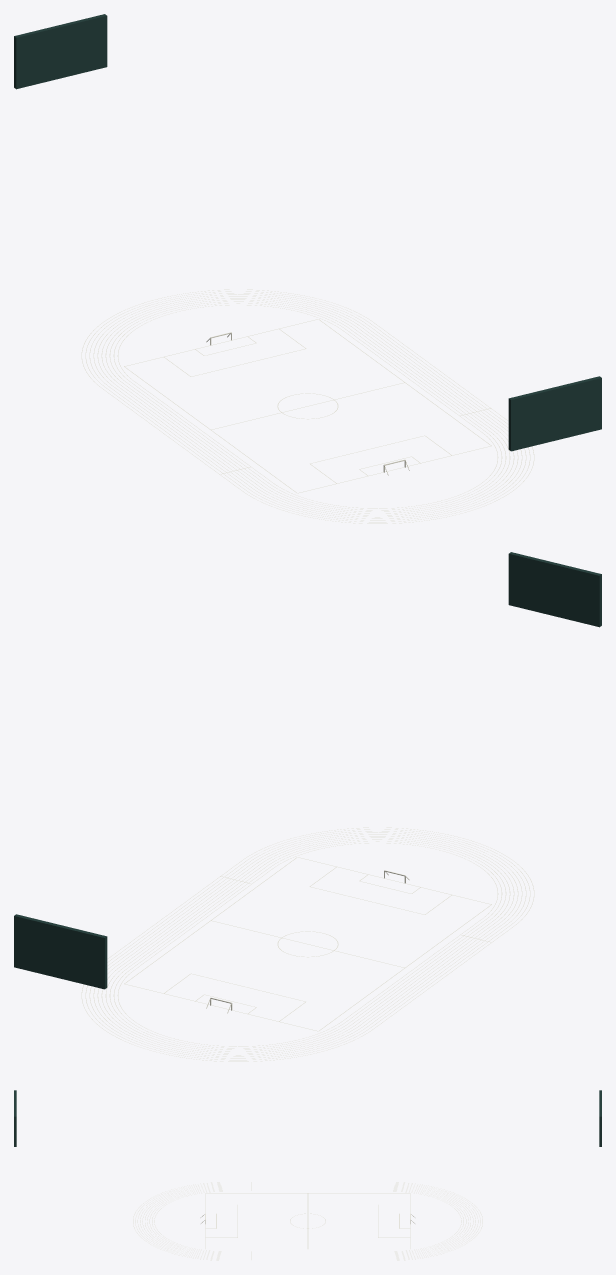
The model's file is landmark-sports-center.glb.
3 renders of one model, top to bottom at view 1: azimuth 30°, elevation 25°; view 2: azimuth 150°, elevation 25°; view 3: azimuth 270°, elevation 25°, orthographic. The views are drawn at different scales.
Parts seen in each view (by area): view 1: Landmark_sports-center; view 2: Landmark_sports-center; view 3: Landmark_sports-center.
Boxes of the visible parts, left/top/right/bottom form: Landmark_sports-center: left=14, top=14, right=601, bottom=523; Landmark_sports-center: left=14, top=552, right=601, bottom=1061; Landmark_sports-center: left=14, top=1090, right=601, bottom=1260.
Bounding box in the file's own units: 0.9507 × 0.668 × 3.01.
